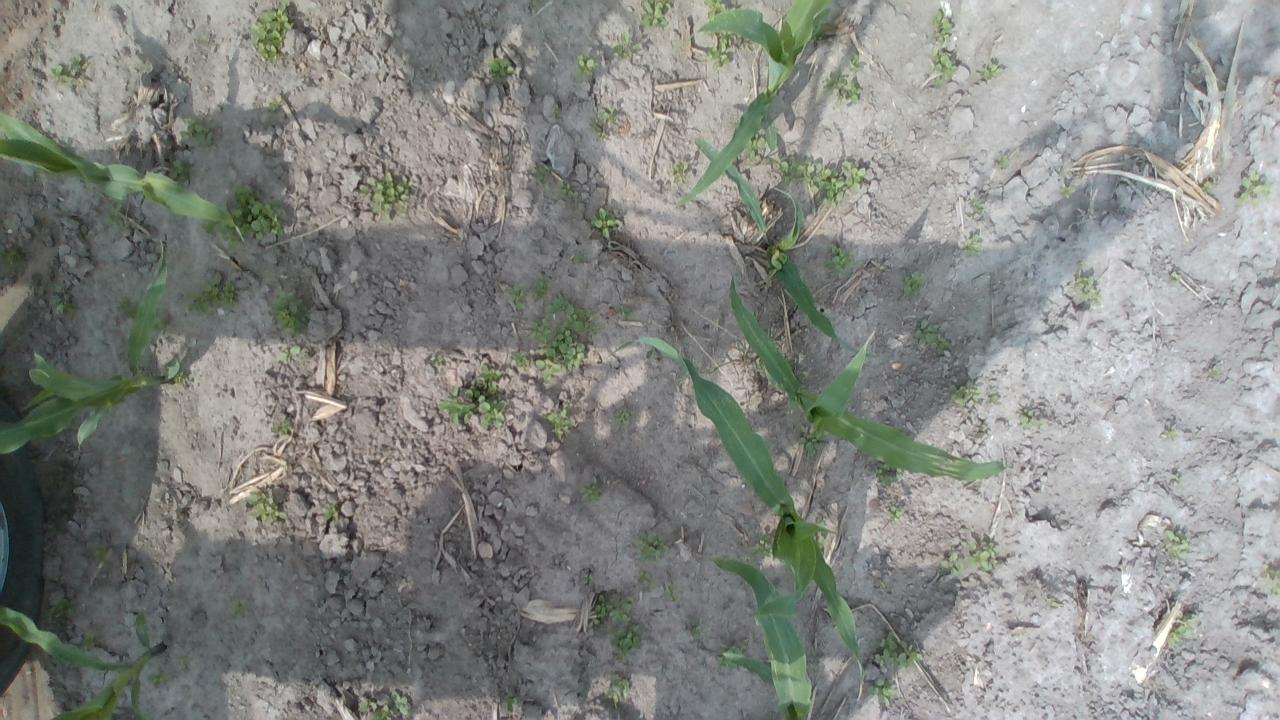Maize: (636, 332, 864, 698), (726, 272, 1007, 487), (0, 242, 181, 456), (692, 134, 862, 357), (0, 108, 248, 244), (680, 0, 831, 207), (0, 608, 165, 720), (707, 549, 812, 720)
Weeds: (529, 294, 599, 384), (776, 152, 866, 207), (438, 365, 508, 430), (230, 182, 285, 240), (359, 172, 412, 226), (250, 1, 294, 64), (182, 272, 240, 316), (822, 55, 868, 105), (929, 9, 958, 88), (872, 631, 924, 671), (704, 30, 749, 71), (271, 287, 305, 337), (358, 689, 411, 720), (246, 491, 290, 524), (914, 318, 952, 354), (1235, 170, 1271, 208), (592, 592, 633, 624), (606, 622, 640, 658), (200, 219, 242, 248), (45, 591, 81, 624), (180, 114, 217, 146), (820, 246, 857, 278), (715, 638, 749, 672), (49, 56, 82, 90), (636, 530, 670, 563), (590, 103, 618, 143), (966, 541, 1000, 572), (799, 422, 828, 458), (605, 670, 632, 708), (1168, 614, 1200, 646), (590, 207, 623, 238), (638, 0, 672, 29), (546, 403, 576, 435), (1072, 276, 1103, 306), (874, 460, 908, 486), (1165, 528, 1190, 562), (612, 32, 642, 60), (870, 678, 899, 706), (102, 203, 130, 231), (580, 476, 608, 504), (948, 384, 981, 407), (900, 270, 924, 300), (48, 293, 79, 316), (940, 549, 964, 578), (530, 270, 552, 301), (1019, 408, 1047, 432), (974, 61, 1004, 83), (574, 54, 599, 80), (613, 408, 636, 436), (532, 163, 554, 192), (488, 56, 514, 80), (1263, 562, 1280, 598), (746, 133, 767, 161), (116, 294, 138, 320), (751, 535, 773, 560), (168, 156, 189, 182), (508, 286, 529, 311), (614, 302, 640, 322), (148, 672, 176, 690), (703, 0, 731, 18), (959, 235, 983, 256), (500, 691, 521, 714), (279, 344, 302, 364), (154, 310, 170, 338), (886, 503, 906, 524), (637, 570, 658, 590), (687, 621, 707, 642), (672, 160, 688, 185), (86, 542, 108, 560), (508, 350, 530, 368), (81, 628, 97, 652), (320, 501, 338, 522), (264, 94, 284, 112), (558, 180, 578, 198), (230, 598, 247, 617), (1162, 425, 1181, 441), (276, 420, 293, 434), (429, 352, 446, 366), (814, 535, 826, 554), (174, 371, 189, 386), (1060, 184, 1074, 200), (174, 653, 192, 665), (1046, 596, 1062, 609), (974, 198, 985, 216), (196, 32, 210, 46), (1202, 178, 1216, 192), (810, 30, 826, 42), (1206, 366, 1221, 378), (552, 103, 564, 118), (44, 118, 54, 135), (581, 574, 593, 586), (52, 574, 66, 584), (572, 254, 587, 263), (998, 158, 1009, 170), (1076, 260, 1089, 270), (664, 582, 674, 594), (1170, 271, 1180, 282), (23, 280, 34, 290), (1172, 473, 1184, 482), (980, 423, 990, 432), (989, 393, 1000, 401), (1136, 152, 1146, 160), (816, 518, 826, 526), (532, 0, 540, 9)
